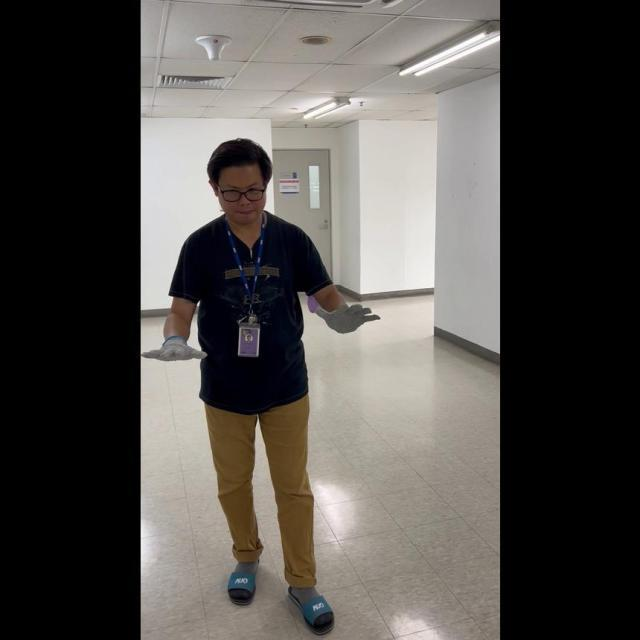gloved_hand: (309, 292, 379, 337), (144, 332, 208, 366)
